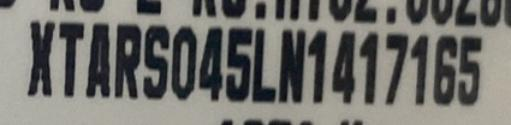letter: (271, 23, 314, 100), (245, 24, 284, 105), (194, 21, 232, 104), (109, 20, 146, 103), (218, 21, 255, 104), (138, 19, 175, 100), (25, 16, 59, 99), (55, 17, 89, 100), (380, 27, 413, 110), (428, 28, 461, 109), (82, 19, 114, 102), (169, 23, 203, 100), (453, 31, 487, 108), (330, 26, 360, 107), (405, 31, 436, 108), (305, 29, 333, 106), (356, 28, 383, 107)
